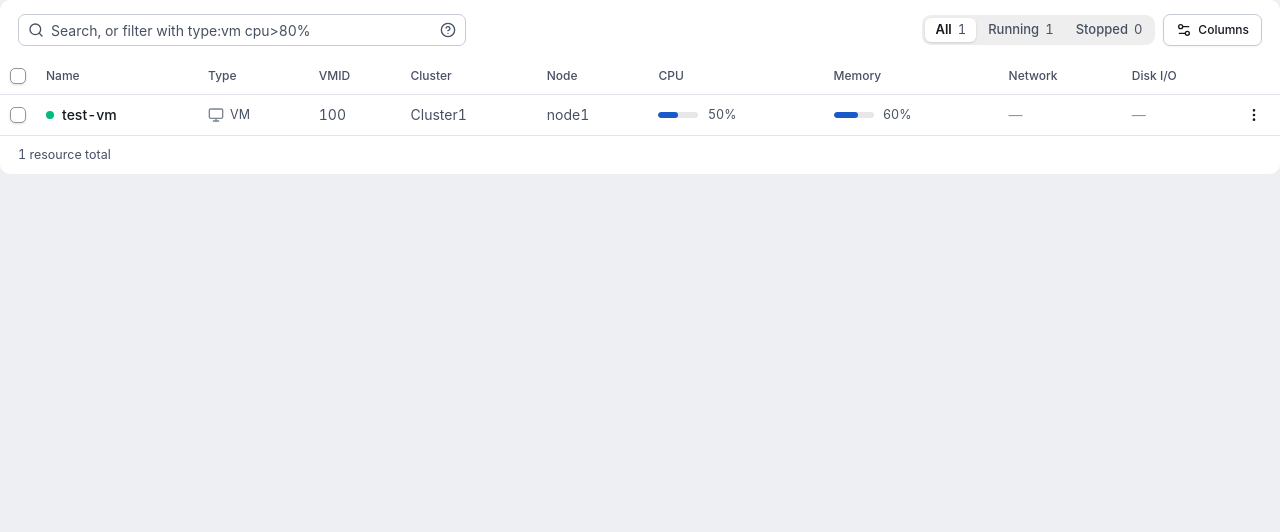
Test: ResourceTable › opens the row menu from the row's Actions button on a desktop
The image size is (1280, 532).
Click the button named "Actions for test-vm". click: (1254, 114)
box: top-left (1238, 98), bottom-right (1270, 130)
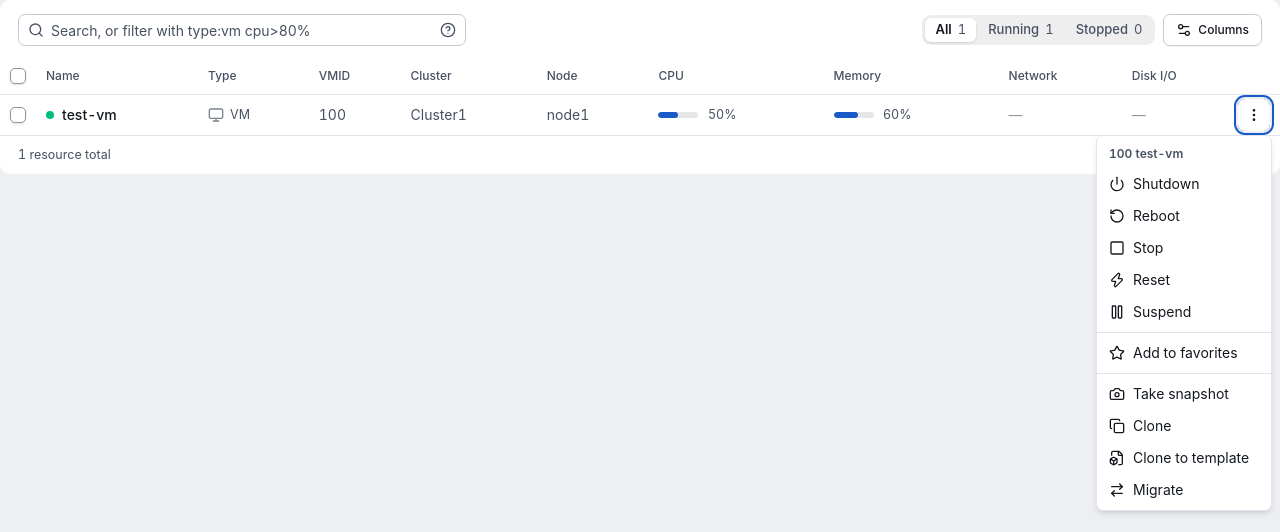
expect the checkbox named "Select row" is not checked: met, box top-left (10, 106), bottom-right (26, 122)
expect the button "Clone" is shown: met, box top-left (1101, 410), bottom-right (1267, 442)
